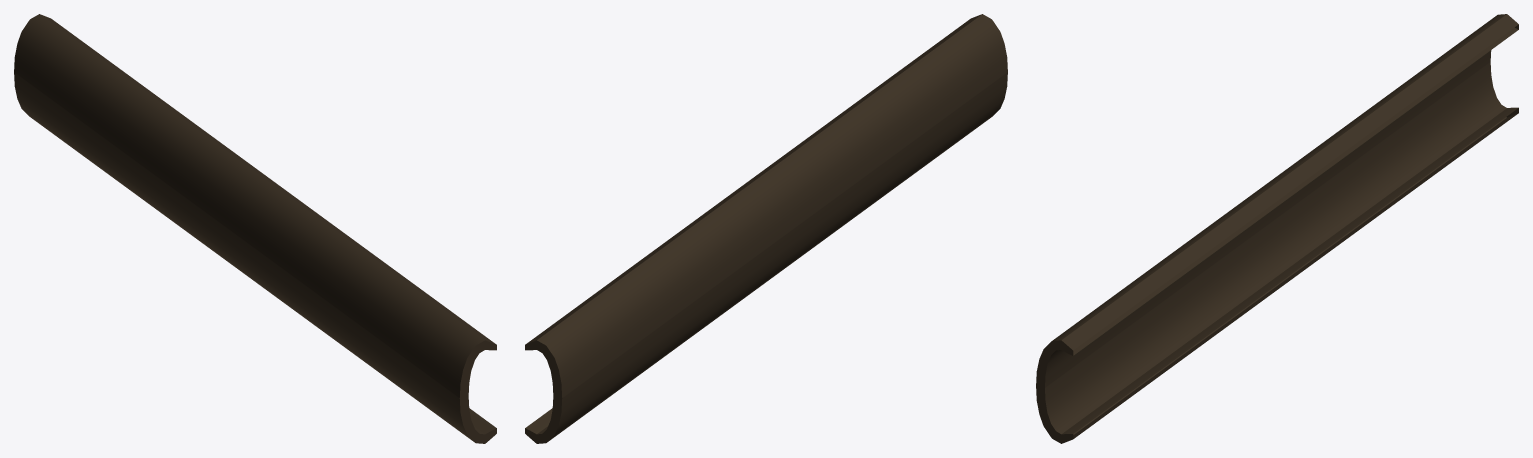
The model's file is SpellbookFinal_Spine.fbx.
3 renders of one model, left to right at view 1: azimuth 30°, elevation 25°; view 2: azimuth 150°, elevation 25°; view 3: azimuth 330°, elevation 25°, orthographic.
Parts seen in each view (by area): view 1: spellbook_spine; view 2: spellbook_spine; view 3: spellbook_spine.
Boxes of the visible parts, bbox=[...] form: spellbook_spine: bbox=[14, 14, 496, 443]; spellbook_spine: bbox=[525, 14, 1007, 443]; spellbook_spine: bbox=[1036, 14, 1518, 443].
Bounding box in the file's own units: 1.64 × 4.37 × 34.02.
